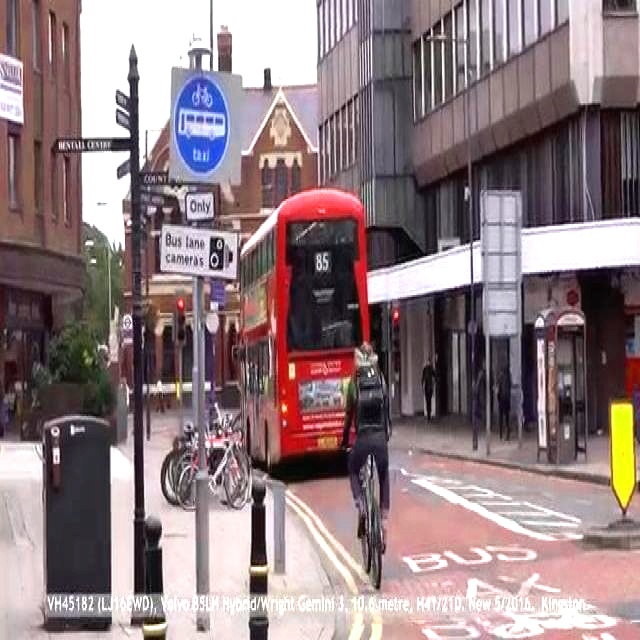bicycle: (318, 417, 430, 595)
bus: (202, 177, 429, 479)
